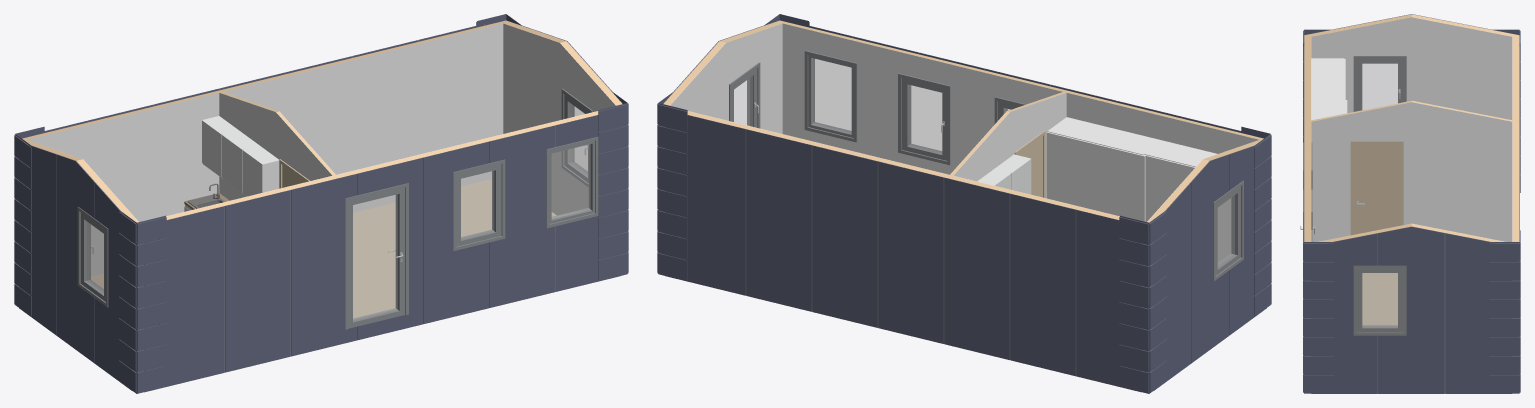
The model's file is andrej.litvinov@chc.fbx.
The picture shows the model from 3 angles, left to right: view 1: azimuth 30°, elevation 25°; view 2: azimuth 150°, elevation 25°; view 3: azimuth 270°, elevation 25°; orthographic projection. The views are drawn at different scales.
Parts seen in each view (by area): view 1: IfcWall/Part:2397154, IfcBuildingElementProxy/Kampai Kvadratiniai - line based:Mu. (×3), IfcPlate/System Panel:Sandwich užbaigimas Multisplit:3725163, IfcPlate/System Panel:Sandwich užbaigimas Multisplit:3725165, IfcPlate/System Panel:Sandwich užbaigimas Multisplit:3725161, IfcPlate/System Panel:Sandwich užbaigimas Multisplit:3725155, IfcWall/Part:2397151, IfcDoor/Durys išorinės:1000x2100x120 (kairinės):2439432, IfcPlate/System Panel:Sandwich užbaigimas Multisplit:3725157, IfcSlab/Part:2319985, IfcPlate/System Panel:Sandwich užbaigimas Multisplit:3725244, IfcBuildingElementProxy/Kampai Kvadratiniai - line based:Mul (+17 smaller); view 2: IfcWall/Part:2319976, IfcBuildingElementProxy/Kampai Kvadratiniai - line based:Mu. (×4), IfcFurnishingElement/Ikea spinta:3300 x 600 x 2100mm:3718938, IfcPlate/System Panel:Sandwich užbaigimas Multisplit:3725219, IfcPlate/System Panel:Sandwich užbaigimas Multisplit:3725223, IfcPlate/System Panel:Sandwich užbaigimas Multisplit:3725217, IfcPlate/System Panel:Sandwich užbaigimas Multisplit:3725221, IfcPlate/System Panel:Sandwich užbaigimas Multisplit:3725225, IfcPlate/System Panel:Sandwich užbaigimas Multisplit:3725227, IfcPlate/System Panel:Sandwich užbaigimas Multisplit:3725214, IfcWall/Part:2397151, IfcPlate/System Panel:Sandwich užbaigimas Multisplit:3725244 (+13 smaller); view 3: IfcWall/Part:2570673, IfcWall/Part:2368365, IfcPlate/System Panel:Sandwich užbaigimas Multisplit:3725200, IfcPlate/System Panel:Sandwich užbaigimas Multisplit:3725197, IfcPlate/System Panel:Sandwich užbaigimas Multisplit:3725202, IfcBuildingElementProxy/Kampai Kvadratiniai - line based:Mu. (×2), IfcDoor/Durys vidinės:800x2100 x 120 (kairinės):2571469, IfcBuildingElementProxy/Kampai Kvadratiniai - line based:Mu, IfcWindow/Langai (Akrusta):800x1200x120 (kairinis):3719503, IfcWindow/Langai (Akrusta):800x1200x120 (kairinis):3719082, IfcFurnishingElement/Ikea spinta:3300 x 600 x 2100mm:3718938, IfcSlab/Part:2319985 (+8 smaller).
Part boxes in pixels (left/top/right/bottom): IfcWall/Part:2397154: left=26, top=23, right=503, bottom=276; IfcBuildingElementProxy/Kampai Kvadratiniai - line based:Mu. (×3): left=14, top=134, right=166, bottom=393; IfcPlate/System Panel:Sandwich užbaigimas Multisplit:3725163: left=225, top=190, right=290, bottom=372; IfcPlate/System Panel:Sandwich užbaigimas Multisplit:3725165: left=159, top=206, right=224, bottom=388; IfcPlate/System Panel:Sandwich užbaigimas Multisplit:3725161: left=291, top=174, right=356, bottom=356; IfcPlate/System Panel:Sandwich užbaigimas Multisplit:3725155: left=489, top=125, right=554, bottom=307; IfcWall/Part:2397151: left=503, top=23, right=615, bottom=215; IfcDoor/Durys išorinės:1000x2100x120 (kairinės):2439432: left=345, top=183, right=408, bottom=329; IfcPlate/System Panel:Sandwich užbaigimas Multisplit:3725157: left=423, top=141, right=488, bottom=324; IfcSlab/Part:2319985: left=91, top=179, right=556, bottom=318; IfcPlate/System Panel:Sandwich užbaigimas Multisplit:3725244: left=56, top=154, right=94, bottom=362; IfcBuildingElementProxy/Kampai Kvadratiniai - line based:Mul: left=598, top=103, right=628, bottom=280; IfcWall/Part:2319976: left=782, top=23, right=1259, bottom=174; IfcBuildingElementProxy/Kampai Kvadratiniai - line based:Mu. (×4): left=657, top=103, right=1271, bottom=393; IfcFurnishingElement/Ikea spinta:3300 x 600 x 2100mm:3718938: left=1046, top=117, right=1230, bottom=262; IfcPlate/System Panel:Sandwich užbaigimas Multisplit:3725219: left=944, top=177, right=1009, bottom=360; IfcPlate/System Panel:Sandwich užbaigimas Multisplit:3725223: left=812, top=145, right=877, bottom=327; IfcPlate/System Panel:Sandwich užbaigimas Multisplit:3725217: left=1010, top=193, right=1075, bottom=376; IfcPlate/System Panel:Sandwich užbaigimas Multisplit:3725221: left=878, top=161, right=943, bottom=343; IfcPlate/System Panel:Sandwich užbaigimas Multisplit:3725225: left=746, top=129, right=811, bottom=311; IfcPlate/System Panel:Sandwich užbaigimas Multisplit:3725227: left=680, top=115, right=745, bottom=295; IfcPlate/System Panel:Sandwich užbaigimas Multisplit:3725214: left=1076, top=210, right=1141, bottom=392; IfcWall/Part:2397151: left=670, top=23, right=782, bottom=133; IfcPlate/System Panel:Sandwich užbaigimas Multisplit:3725244: left=1190, top=154, right=1228, bottom=363; IfcWall/Part:2570673: left=1311, top=102, right=1512, bottom=241; IfcWall/Part:2368365: left=1311, top=17, right=1512, bottom=119; IfcPlate/System Panel:Sandwich užbaigimas Multisplit:3725200: left=1377, top=226, right=1444, bottom=393; IfcPlate/System Panel:Sandwich užbaigimas Multisplit:3725197: left=1445, top=233, right=1512, bottom=393; IfcPlate/System Panel:Sandwich užbaigimas Multisplit:3725202: left=1311, top=233, right=1377, bottom=393; IfcBuildingElementProxy/Kampai Kvadratiniai - line based:Mu. (×2): left=1489, top=230, right=1520, bottom=393; IfcDoor/Durys vidinės:800x2100 x 120 (kairinės):2571469: left=1350, top=141, right=1403, bottom=235; IfcBuildingElementProxy/Kampai Kvadratiniai - line based:Mu: left=1304, top=242, right=1333, bottom=393; IfcWindow/Langai (Akrusta):800x1200x120 (kairinis):3719503: left=1353, top=265, right=1406, bottom=335; IfcWindow/Langai (Akrusta):800x1200x120 (kairinis):3719082: left=1353, top=56, right=1406, bottom=111; IfcFurnishingElement/Ikea spinta:3300 x 600 x 2100mm:3718938: left=1311, top=58, right=1347, bottom=119; IfcSlab/Part:2319985: left=1362, top=273, right=1397, bottom=325.
Size of the model in its own units: 844 by 308 by 369.
